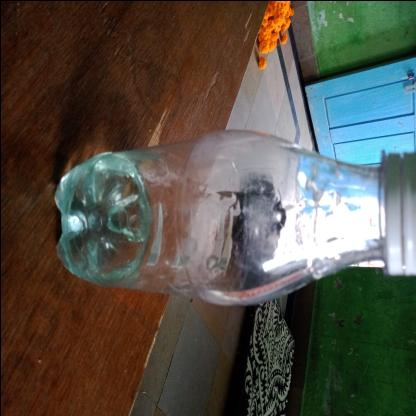bottle: (199, 1, 337, 416)
